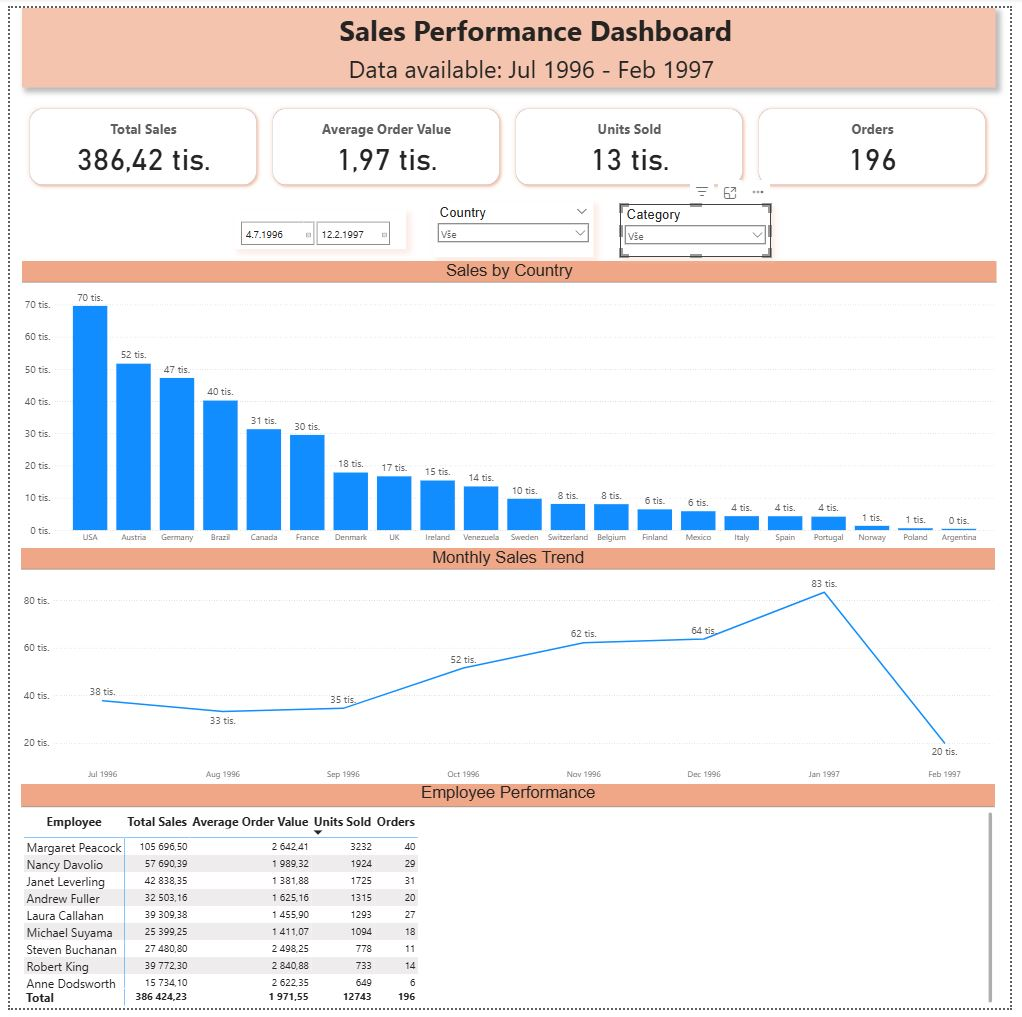

The dashboard page shown, as its layout file describes it:
{"tool":"powerbi","page":{"name":"Stránka 1","canvas":[2000,2000],"ordinal":0},"visuals":[{"type":"textbox","box":[22.4,53.4,1948.4,106.7],"z":0},{"type":"cardVisual","fields":{"Data":["OrderDetails.Total Sales","Orders.Average Order Value","OrderDetails.Quantity Sold","Orders.Orders Count"]},"box":[22.4,184.2,1948.4,187.6],"z":1000},{"type":"slicer","title":"Order date","fields":{"Values":["Orders.OrderDate"]},"box":[239.2,387.3,342.5,91.2],"z":2000},{"type":"slicer","fields":{"Values":["Customers.Country"]},"box":[642.6,371.8,321.7,110],"z":3000},{"type":"slicer","fields":{"Values":["Shippers.ShipperName"]},"box":[1024.1,371.8,273.7,110.2],"z":4000},{"type":"slicer","fields":{"Values":["Categories.CategoryName"]},"box":[1351.1,371.8,301.2,110.2],"z":5000},{"type":"clusteredColumnChart","title":"Celkové tržby podle zemí ","fields":{"Category":["Customers.Country"],"Y":["OrderDetails.Total Sales"]},"box":[22.4,506,979.3,573.1],"z":6000},{"type":"clusteredBarChart","title":"Počet objednávek kategorií Seafood a Beverages podle dopravce (1997)","fields":{"Category":["Shippers.ShipperName"],"Y":["OrderDetails.Beverages Orders","OrderDetails.Seafood Orders"]},"box":[1053.4,509.5,917.4,528.4],"z":7000},{"type":"pivotTable","title":"Výkon zaměstnanců podle tržeb a objednávek (1997)","fields":{"Rows":["Employees.Employee Full name"],"Values":["OrderDetails.Total Sales","Orders.Average Order Value","OrderDetails.Quantity Sold","Orders.Orders Count"]},"box":[22.4,1550.8,1948.4,449.2],"z":8000},{"type":"lineChart","title":"Vývoj tržeb v letech 1996-1997","fields":{"Y":["OrderDetails.Total Sales"],"Category":["Orders.Měsíc_Rok"]},"box":[22.4,1079.2,1948.4,471.6],"z":9000}]}

Visuals, with their boxes in screenshot pixels (x1, y1, x2, y2), scaled from the page's 2000x2000 canvas onto the 1022x1017 screenshot:
textbox: [11,27,1007,81]
cardVisual - OrderDetails.Total Sales x Orders.Average Order Value: [11,94,1007,189]
"Order date" slicer: [122,197,297,243]
slicer - Customers.Country: [328,189,493,245]
slicer - Shippers.ShipperName: [523,189,663,245]
slicer - Categories.CategoryName: [690,189,844,245]
"Celkové tržby podle zemí " clusteredColumnChart: [11,257,512,549]
"Počet objednávek kategorií Seafood a Beverages podle dopravce (1997)" clusteredBarChart: [538,259,1007,528]
"Výkon zaměstnanců podle tržeb a objednávek (1997)" pivotTable: [11,789,1007,1016]
"Vývoj tržeb v letech 1996-1997" lineChart: [11,549,1007,789]
